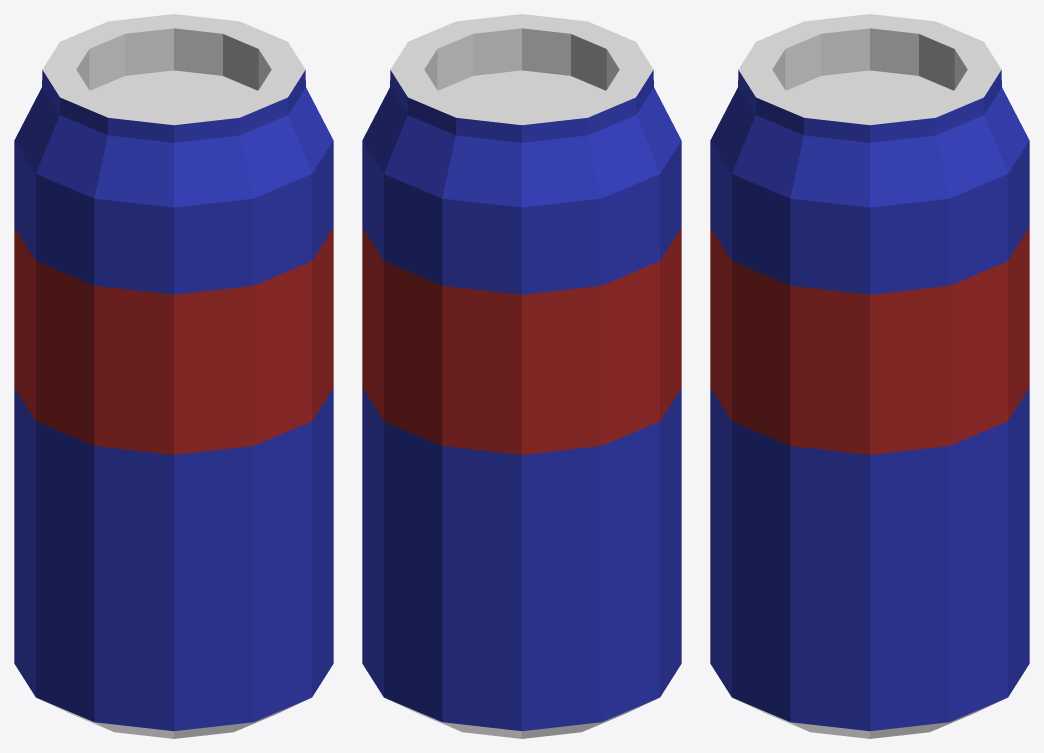
File: Beer Can.fbx
3 renders of one model, left to right at view 1: azimuth 30°, elevation 25°; view 2: azimuth 150°, elevation 25°; view 3: azimuth 270°, elevation 25°, orthographic.
Parts seen in each view (by area): view 1: Cylinder; view 2: Cylinder; view 3: Cylinder.
Boxes of the visible parts, <box> form: Cylinder: <box>14,14,333,738</box>; Cylinder: <box>362,14,681,738</box>; Cylinder: <box>710,14,1029,738</box>.
Size of the model in its own units: 57.44 by 123 by 57.44.
